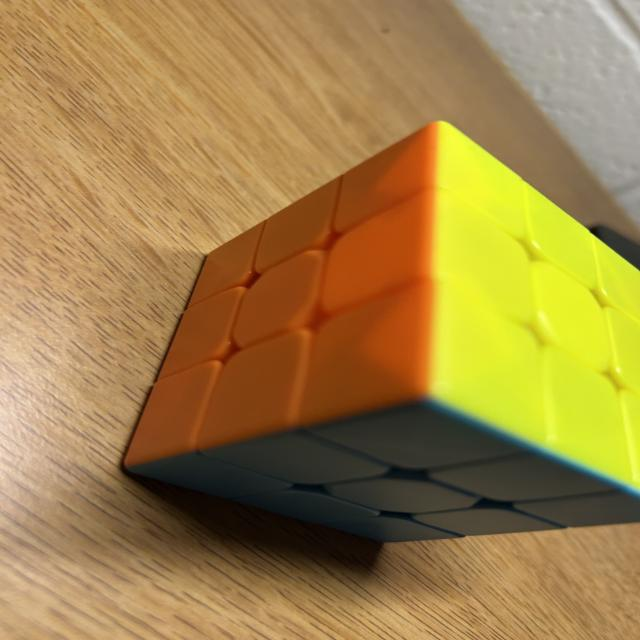Rubiks Cube: (121, 122, 640, 543)
